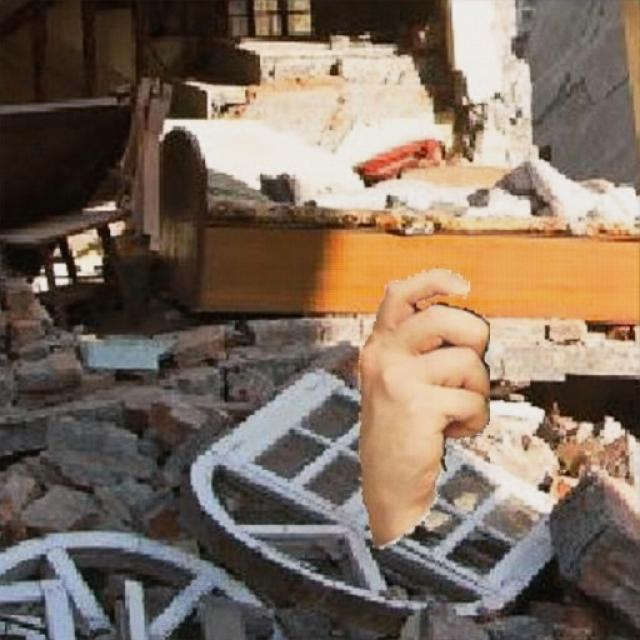Person in Rubble: (359, 266, 489, 550)
